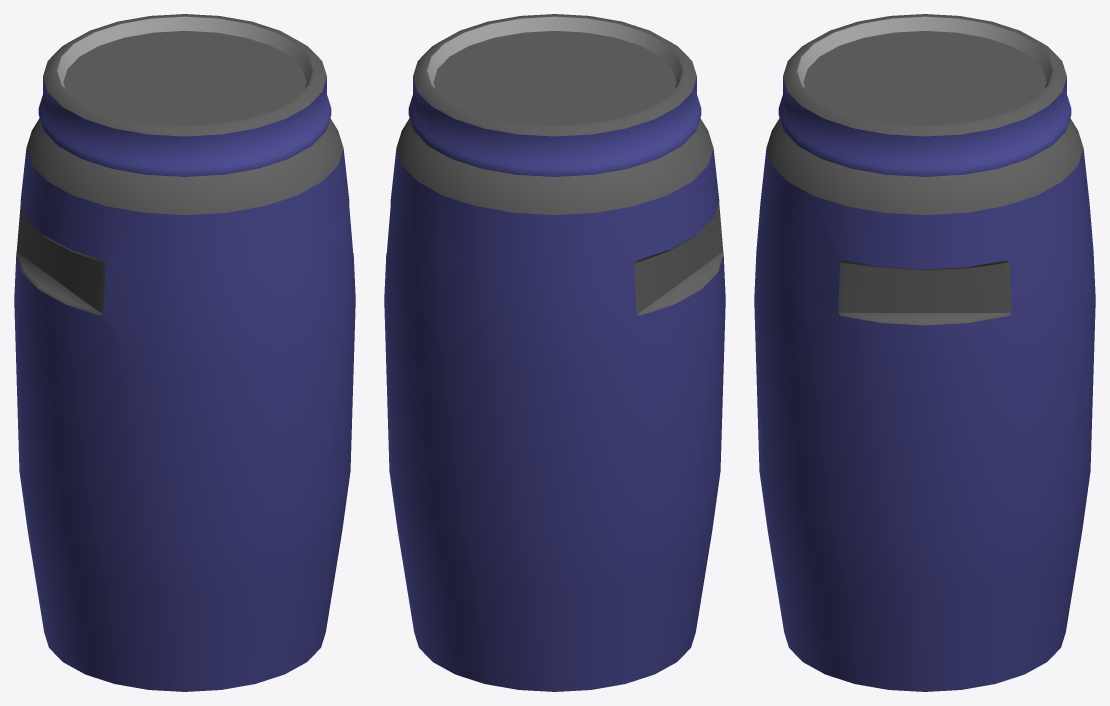
Rendered from bidon_mavi.fbx.
The picture shows the model from 3 angles, left to right: view 1: azimuth 30°, elevation 25°; view 2: azimuth 150°, elevation 25°; view 3: azimuth 270°, elevation 25°; orthographic projection.
Parts seen in each view (by area): view 1: polySurface11; view 2: polySurface11; view 3: polySurface11.
Boxes of the visible parts, x1,y1,x2,y2 form: polySurface11: [14, 14, 355, 691]; polySurface11: [384, 14, 725, 691]; polySurface11: [754, 14, 1095, 691].
Bounding box in the file's own units: 40.5 × 73.5 × 40.5.
